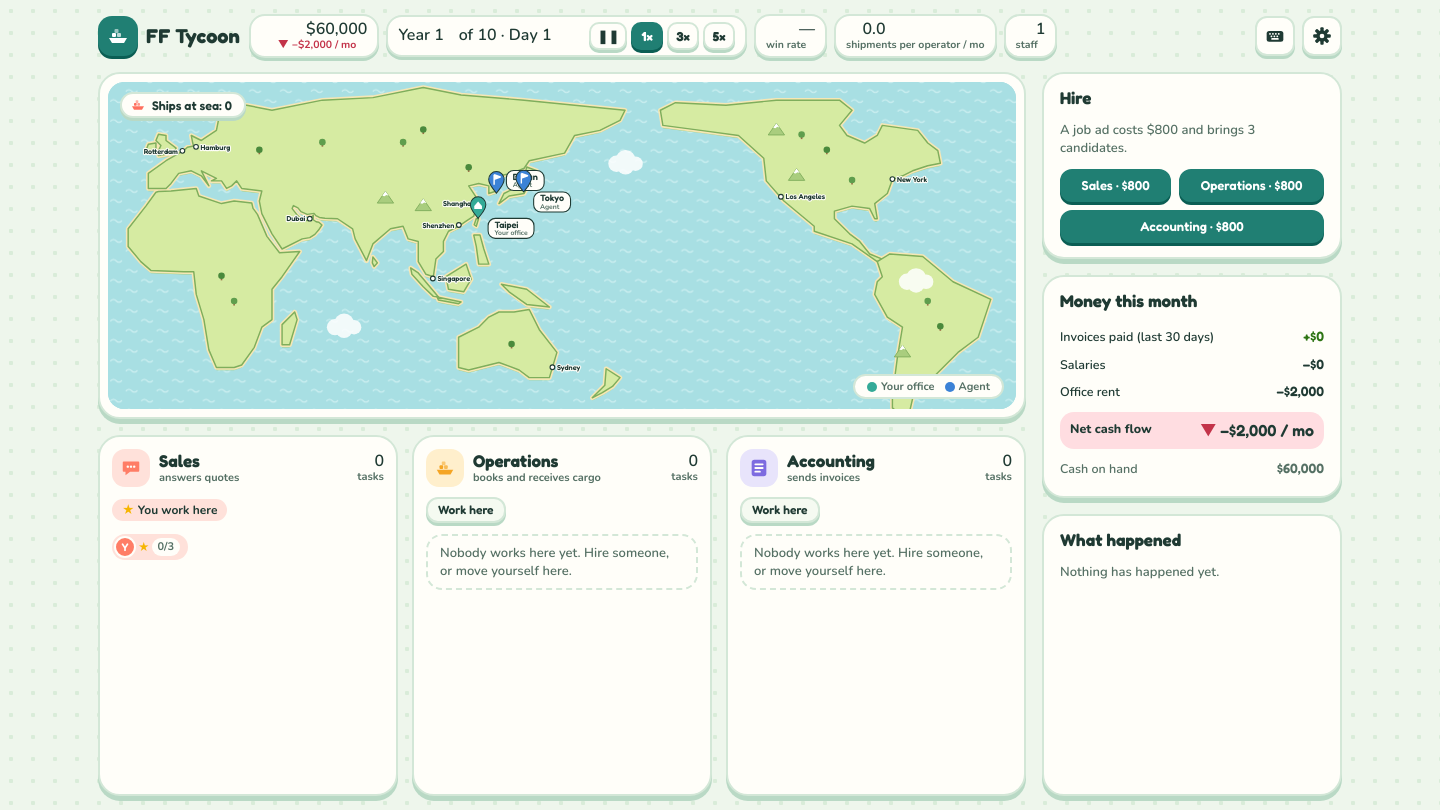
GameScreen › the settings dialog holds the clock (auto-pause true) and closing it restores the speed
The image size is (1440, 810).
Step 1. Click the button "3×" → (683,36), box [667,22,699,50]
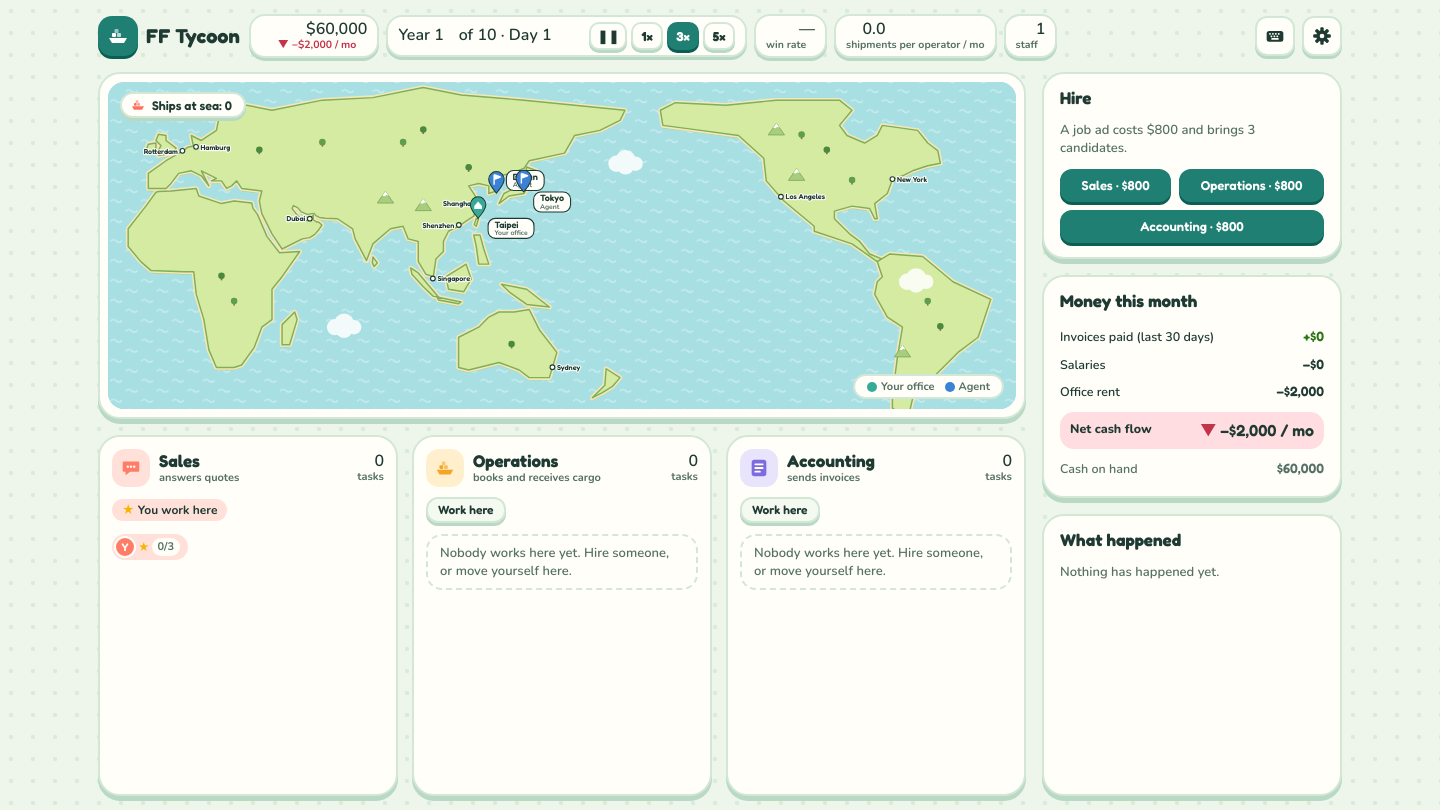
Step 2. Click the button named "Settings" → (1322,36), box [1302,16,1342,56]
Wait 3000 ms
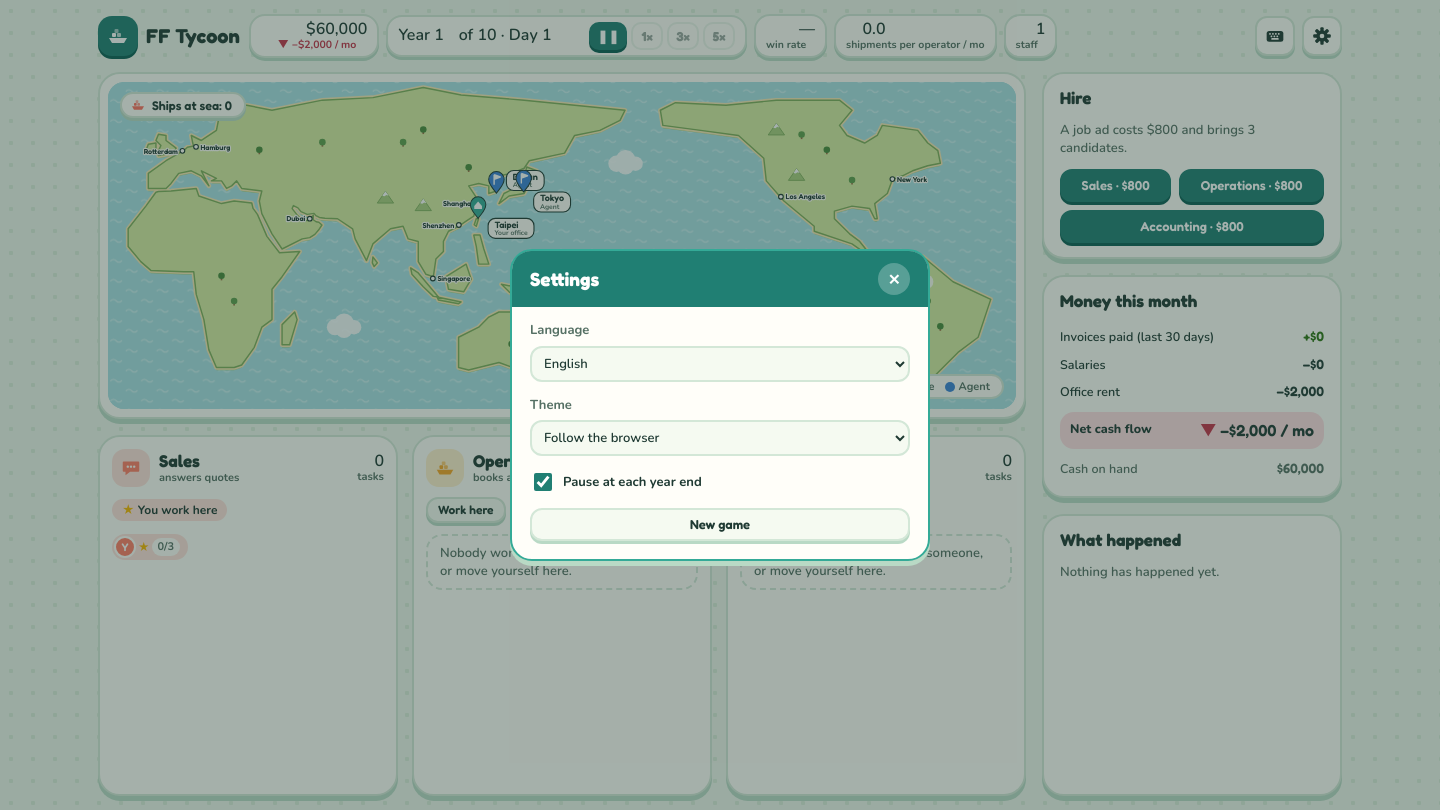
Now the dialog "Settings" is shown
Step 3. Press Escape in the dialog "Settings", box [510,249,930,561]
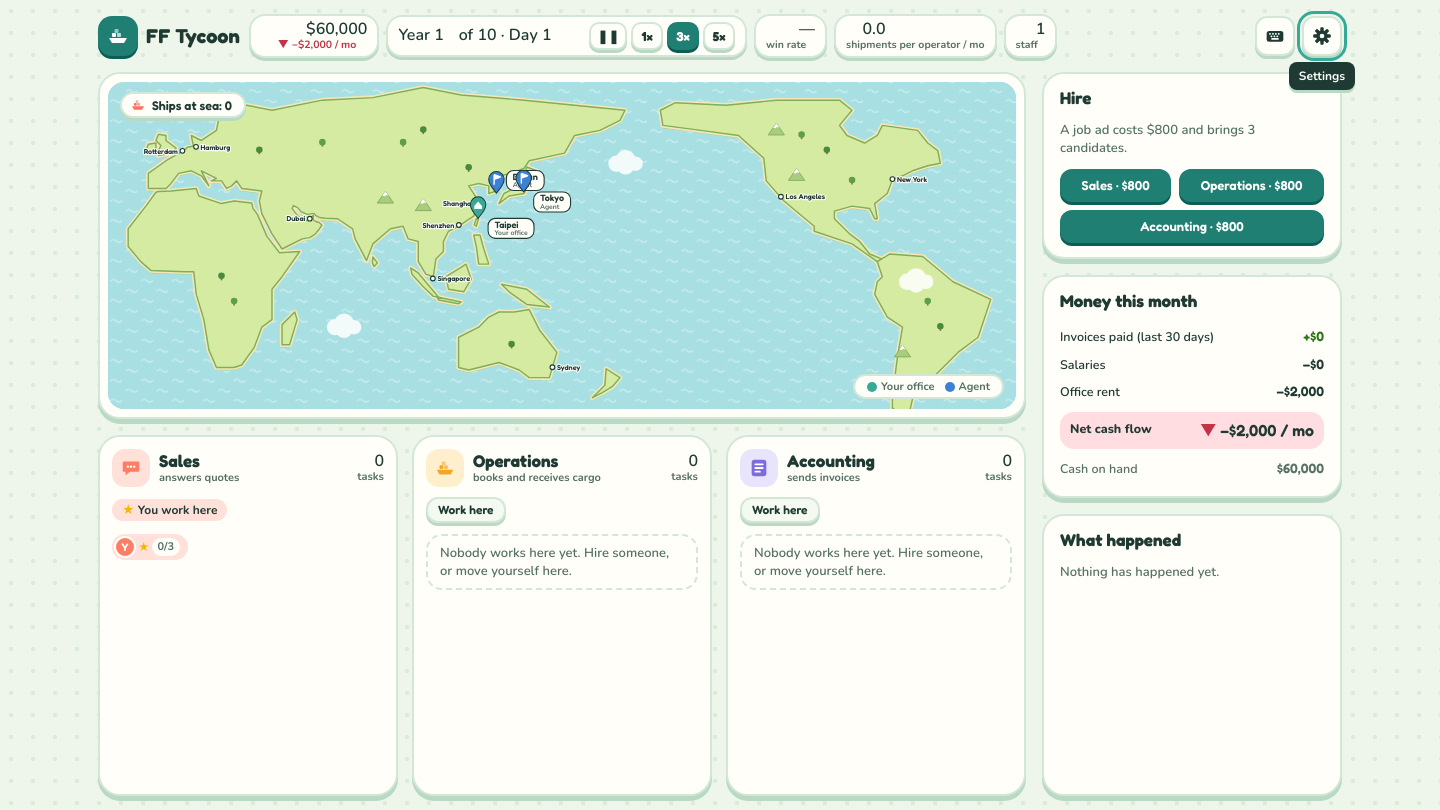
Now the dialog is gone
